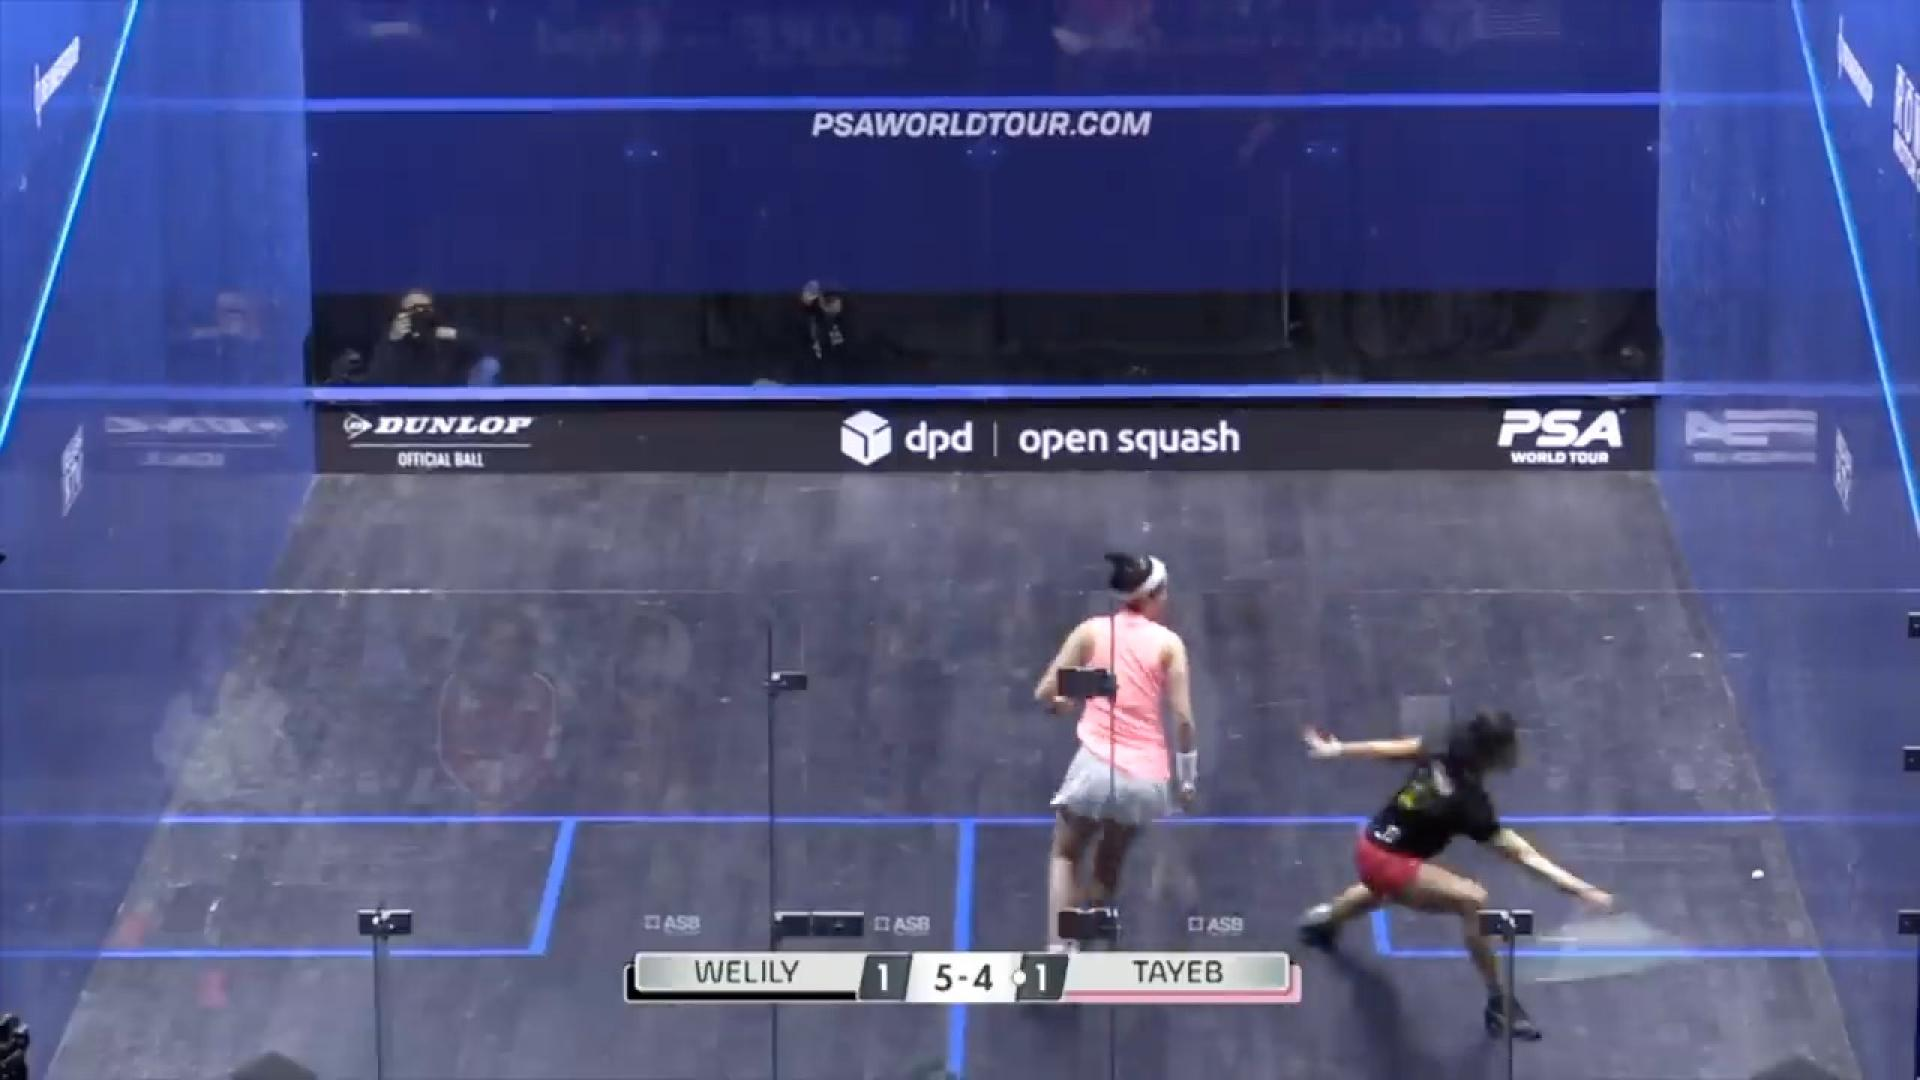Squash-Ball: (1738, 856, 1785, 898)
